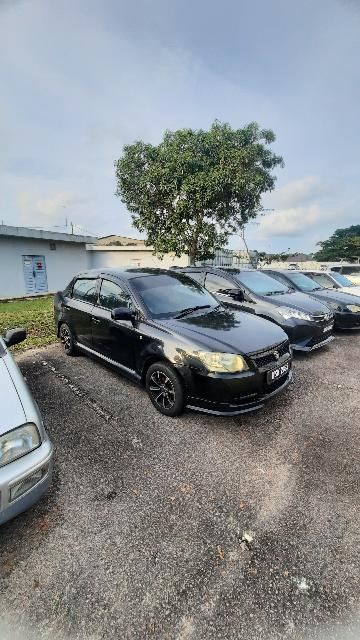License_Plate: (267, 354, 301, 392)
car: (51, 262, 295, 418), (158, 259, 336, 360), (2, 323, 67, 529)
